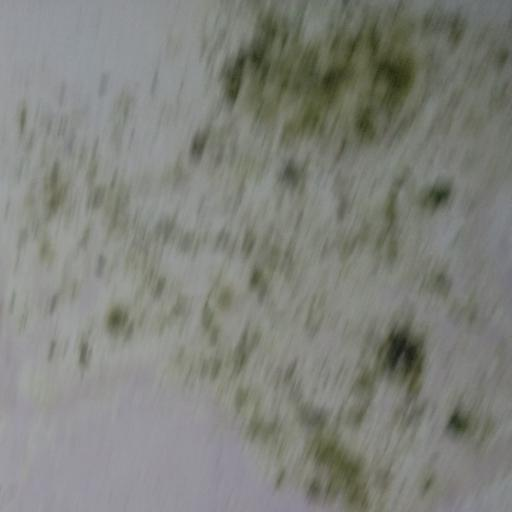algae: (183, 6, 484, 273)
